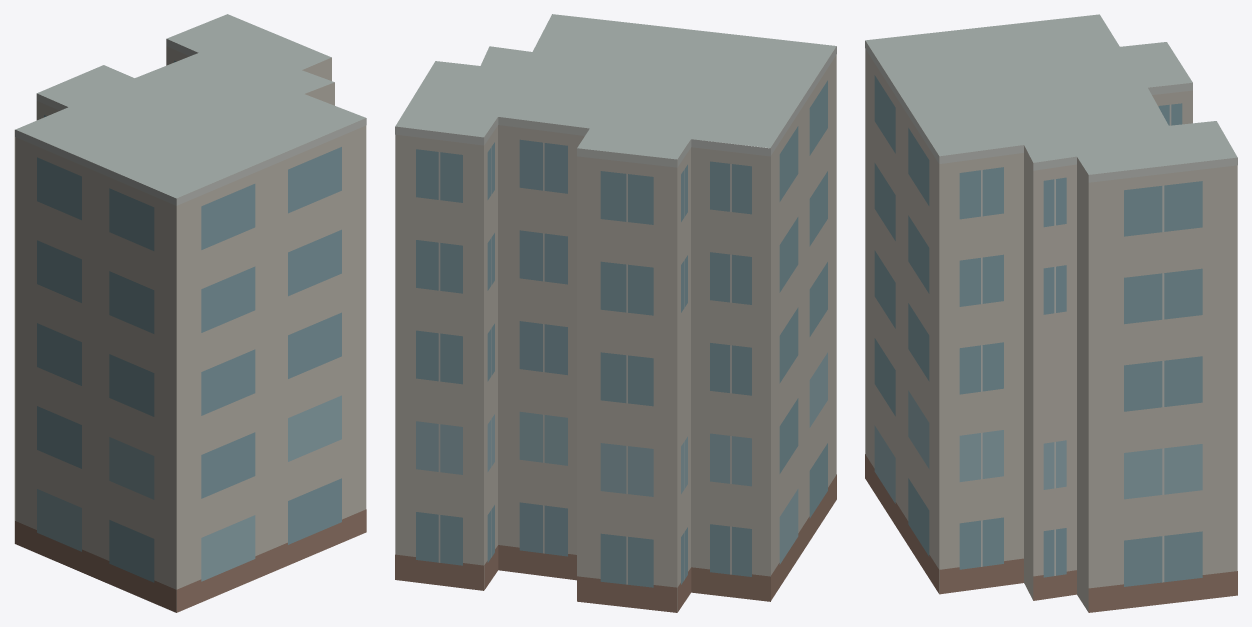
The model's file is survey-upis-32751882.glb.
3 renders of one model, left to right at view 1: azimuth 30°, elevation 25°; view 2: azimuth 150°, elevation 25°; view 3: azimuth 270°, elevation 25°, orthographic. The views are drawn at different scales.
Parts seen in each view (by area): view 1: survey-upis-32751882.tmp; view 2: survey-upis-32751882.tmp; view 3: survey-upis-32751882.tmp.
Boxes of the visible parts, left/top/right/bottom form: survey-upis-32751882.tmp: left=14, top=14, right=366, bottom=612; survey-upis-32751882.tmp: left=395, top=14, right=836, bottom=612; survey-upis-32751882.tmp: left=865, top=14, right=1237, bottom=612.
Bounding box in the file's own units: 10.73 × 13.6 × 10.5.
